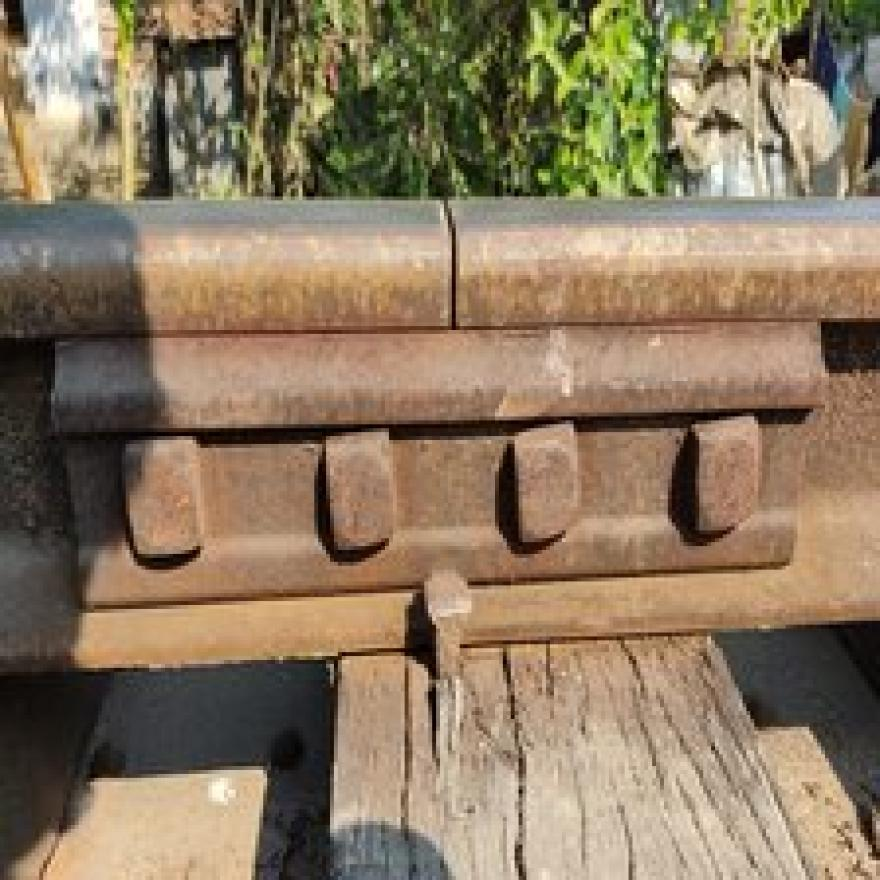railway-gap: (374, 177, 537, 359)
